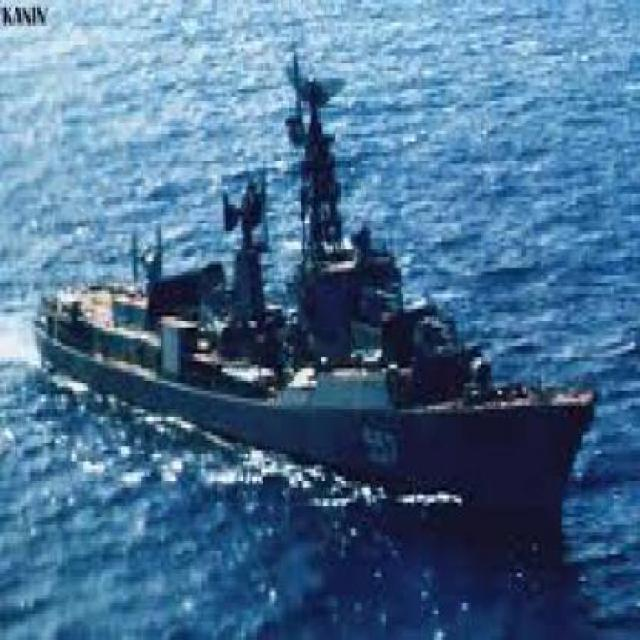warship2: (12, 27, 599, 541)
